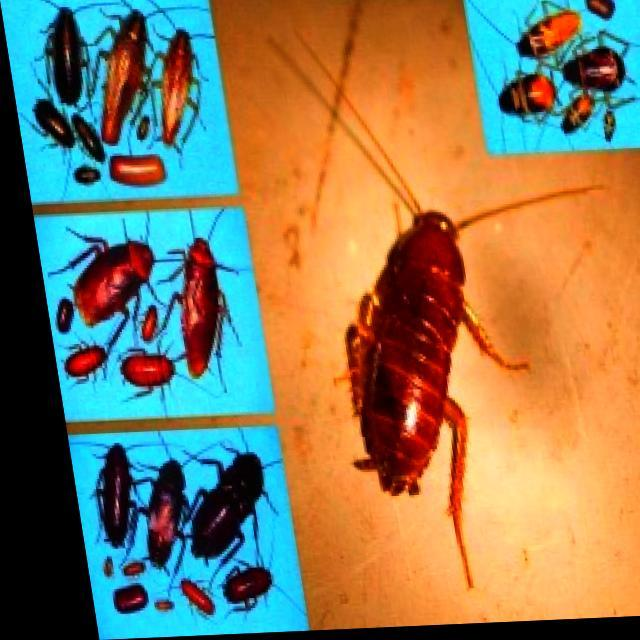cockroach: (342, 209, 472, 497), (64, 228, 167, 345), (190, 434, 276, 564), (142, 442, 202, 576), (174, 231, 226, 378), (100, 6, 153, 148), (156, 19, 207, 164), (93, 439, 145, 557), (555, 32, 639, 102), (20, 89, 84, 169), (222, 549, 290, 614), (50, 0, 87, 107), (508, 12, 587, 60), (499, 65, 559, 126), (112, 347, 188, 394), (58, 340, 121, 387), (552, 87, 599, 147), (70, 107, 114, 170), (180, 571, 226, 619), (600, 104, 624, 158), (132, 107, 156, 148), (114, 557, 151, 576), (143, 306, 158, 344)
